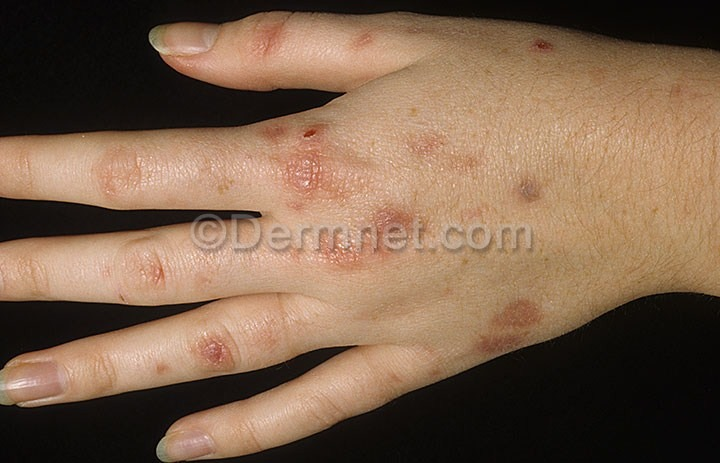Melasma: (256, 115, 338, 194), (475, 280, 548, 351), (505, 26, 563, 71), (192, 329, 237, 384), (120, 252, 169, 290), (259, 13, 295, 58)
